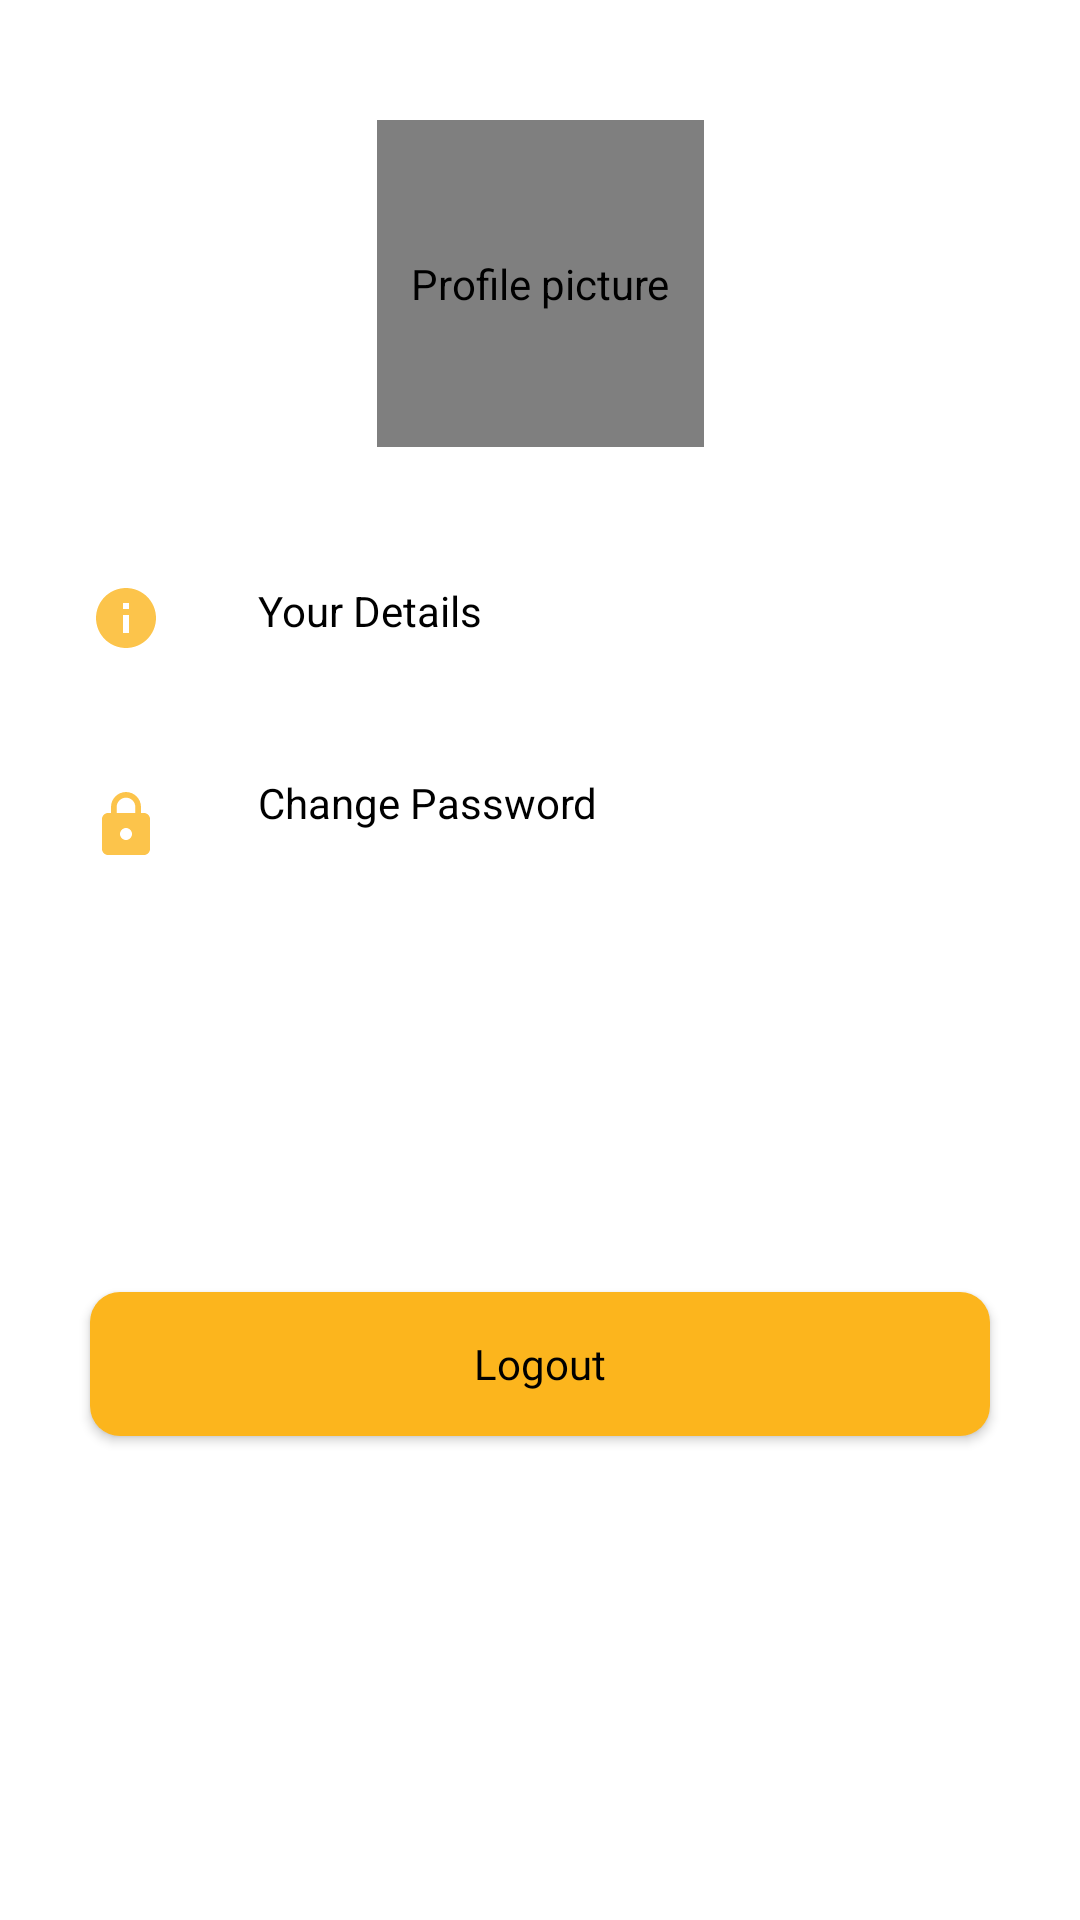

Point at icon controls on the screen. Image size 1080*1920, points as point (x, y).
security icon: point (126, 823)
